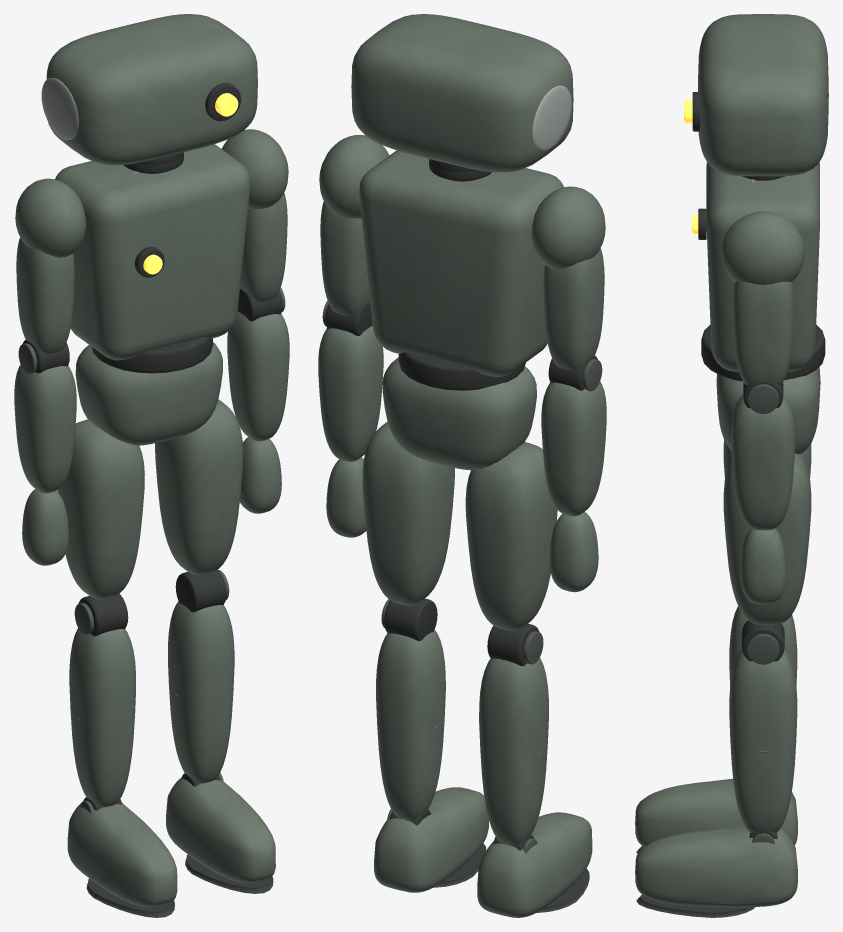
Rendered from workstation-guide.glb.
The picture shows the model from 3 angles, left to right: view 1: azimuth 30°, elevation 25°; view 2: azimuth 150°, elevation 25°; view 3: azimuth 270°, elevation 25°; orthographic projection. The views are drawn at different scales.
Parts seen in each view (by area): view 1: TorsoShell, HeadShell, ThighShell_R, ThighShell_L, CalfShell_L, CalfShell_R, PelvisShell, FootShell_L, FootShell_R, ForearmShell_L, ForearmShell_R, UpperArmShell_R (+14 smaller); view 2: TorsoShell, HeadShell, ThighShell_R, ThighShell_L, PelvisShell, CalfShell_L, CalfShell_R, FootShell_L, FootShell_R, ForearmShell_R, ForearmShell_L, UpperArmShell_R (+13 smaller); view 3: HeadShell, TorsoShell, FootShell_L, CalfShell_L, ForearmShell_L, ThighShell_L, UpperArmShell_L, FootShell_R, ShoulderShell_L, PelvisShell, HandClamp_L, WaistSleeve (+5 smaller).
Boxes of the visible parts, x1,y1,x2,y2 form: TorsoShell: [55, 144, 250, 360]; HeadShell: [46, 14, 257, 165]; ThighShell_R: [57, 419, 144, 599]; ThighShell_L: [155, 399, 243, 575]; CalfShell_L: [168, 601, 234, 783]; CalfShell_R: [69, 628, 135, 807]; PelvisShell: [75, 342, 222, 445]; FootShell_L: [166, 777, 275, 883]; FootShell_R: [67, 803, 177, 907]; ForearmShell_L: [227, 312, 289, 441]; ForearmShell_R: [14, 365, 76, 493]; UpperArmShell_R: [16, 237, 74, 353]; TorsoShell: [359, 150, 563, 376]; HeadShell: [351, 14, 573, 172]; ThighShell_R: [465, 442, 557, 630]; ThighShell_L: [362, 422, 454, 605]; PelvisShell: [382, 357, 536, 470]; CalfShell_L: [376, 630, 445, 820]; CalfShell_R: [479, 657, 548, 845]; FootShell_L: [374, 787, 488, 892]; FootShell_R: [477, 812, 592, 917]; ForearmShell_R: [541, 381, 606, 516]; ForearmShell_L: [318, 326, 383, 461]; UpperArmShell_R: [543, 248, 604, 369]; HeadShell: [698, 14, 828, 176]; TorsoShell: [706, 162, 819, 371]; FootShell_L: [635, 826, 797, 907]; CalfShell_L: [729, 649, 797, 832]; ForearmShell_L: [731, 395, 795, 530]; ThighShell_L: [723, 453, 811, 625]; UpperArmShell_L: [732, 281, 793, 384]; FootShell_R: [635, 778, 797, 846]; ShoulderShell_L: [721, 211, 805, 284]; PelvisShell: [716, 367, 820, 454]; HandClamp_L: [740, 528, 786, 604]; WaistSleeve: [701, 325, 825, 381].
Size of the model in its own units: 0.582 by 1.75 by 0.3694.
7 materials, 1 textured.
